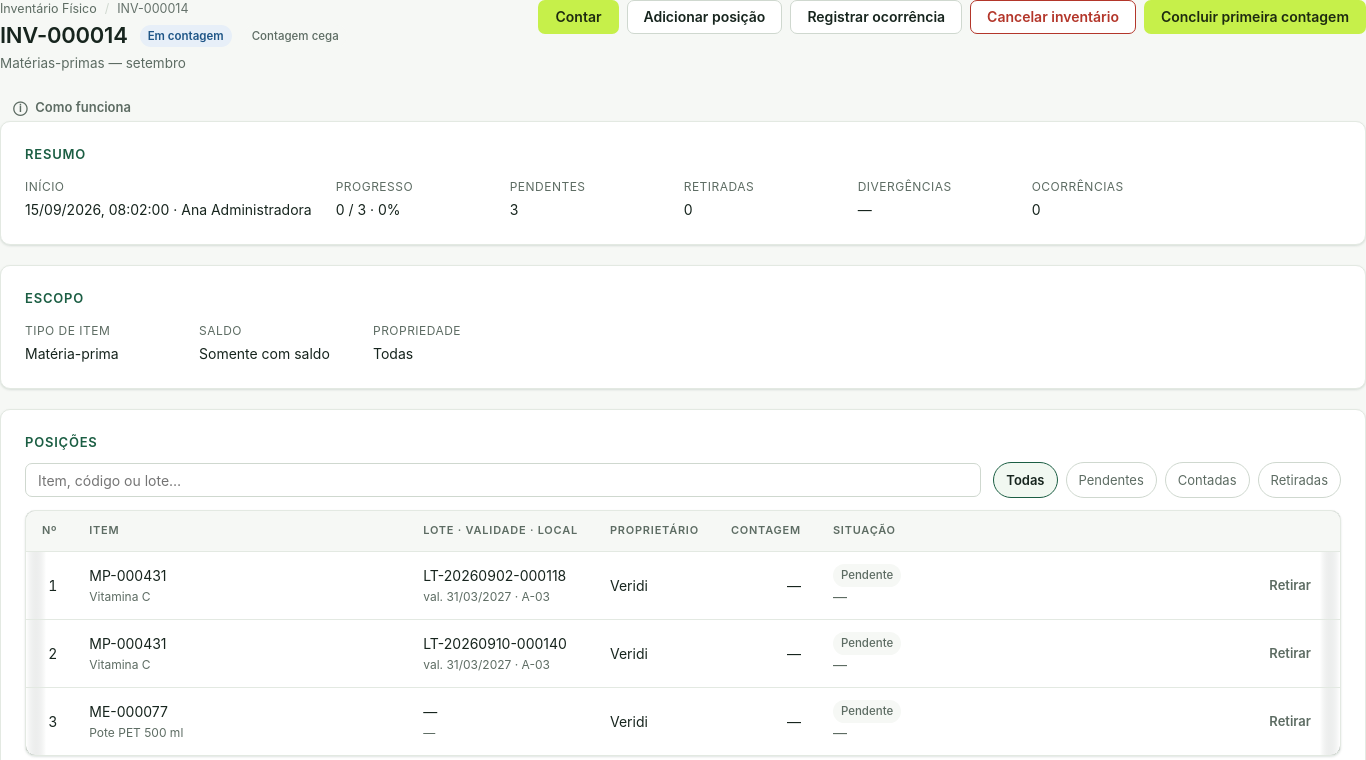
detalhe do inventário — posições › adicionar posição escolhe o lote pela prévia no modo do inventário, sem saldo na cega
The width and height of the screenshot is (1366, 760).
Click the button "Adicionar posição": (704, 17) [626, 0, 782, 34]
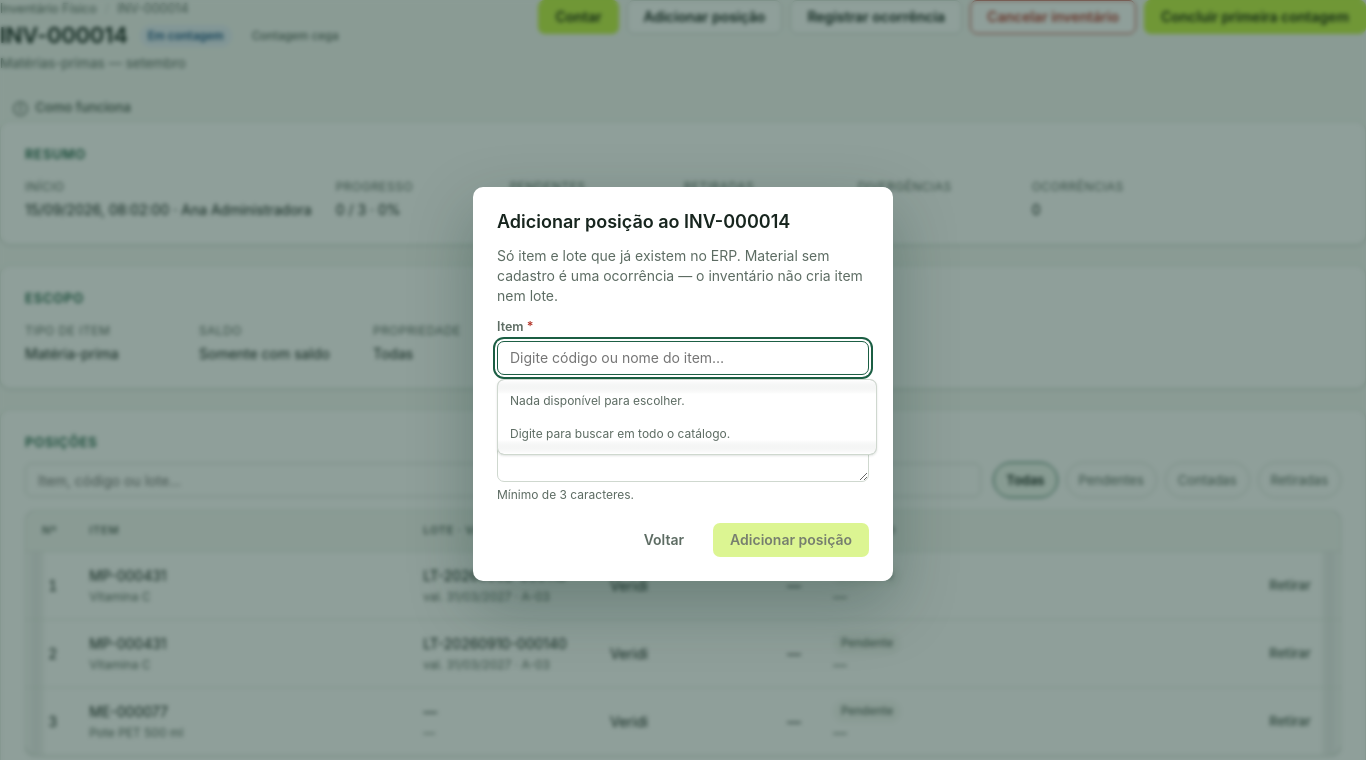
Focus the dropdown with placeholder "Digite código ou nome do item…": (683, 358) [497, 340, 869, 374]
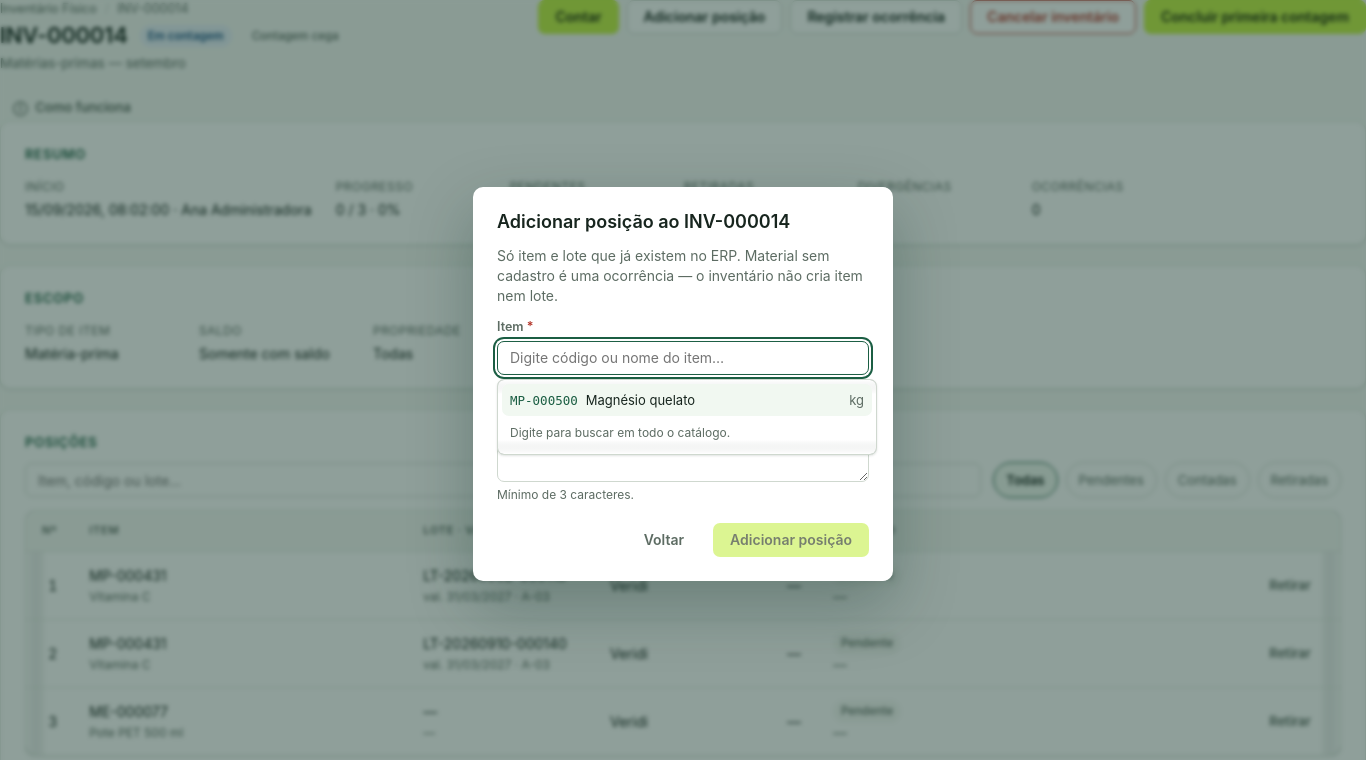
Press the mouse on the option "MP-000500 Magnésio quelato kg": (687, 400) [502, 384, 872, 416]
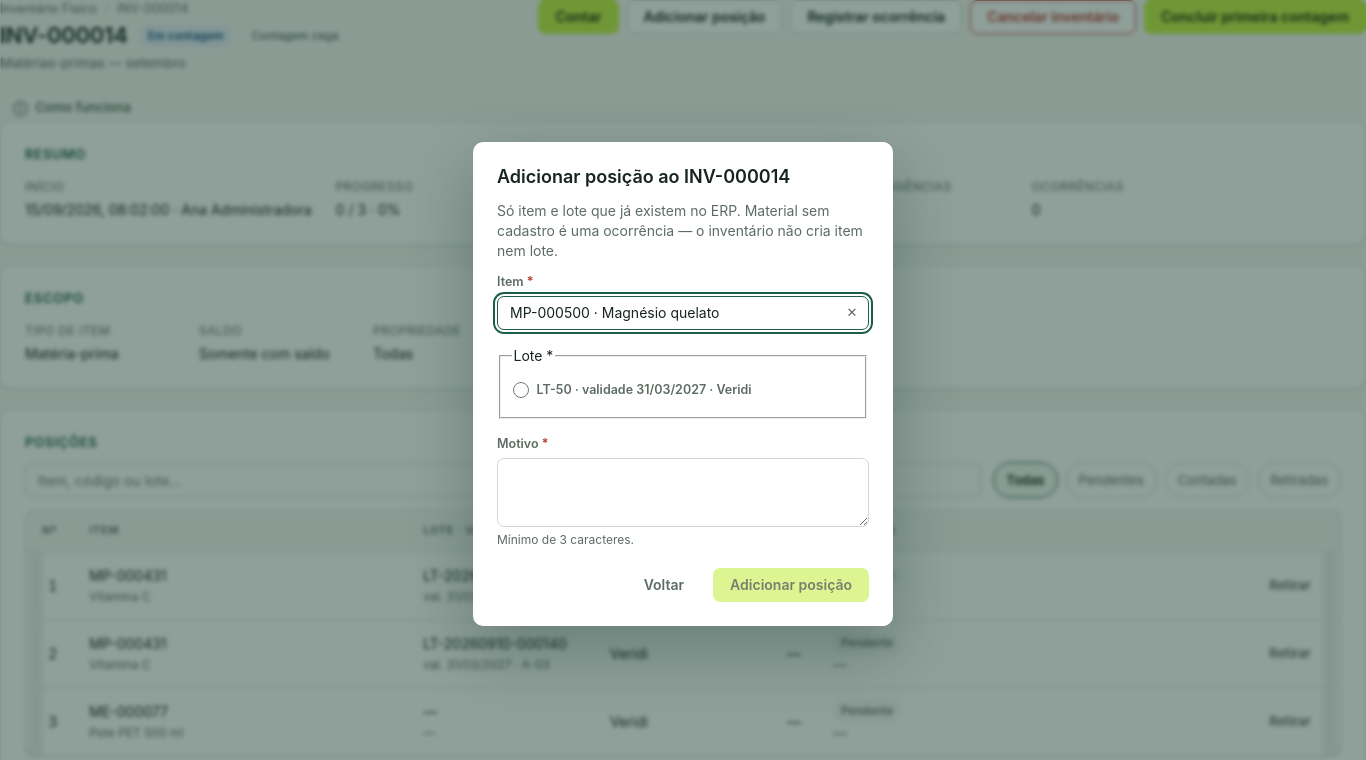
Click the radio button labelled "LT-50 · validade 31/03/2027 · Veridi": (520, 390) [512, 382, 528, 398]
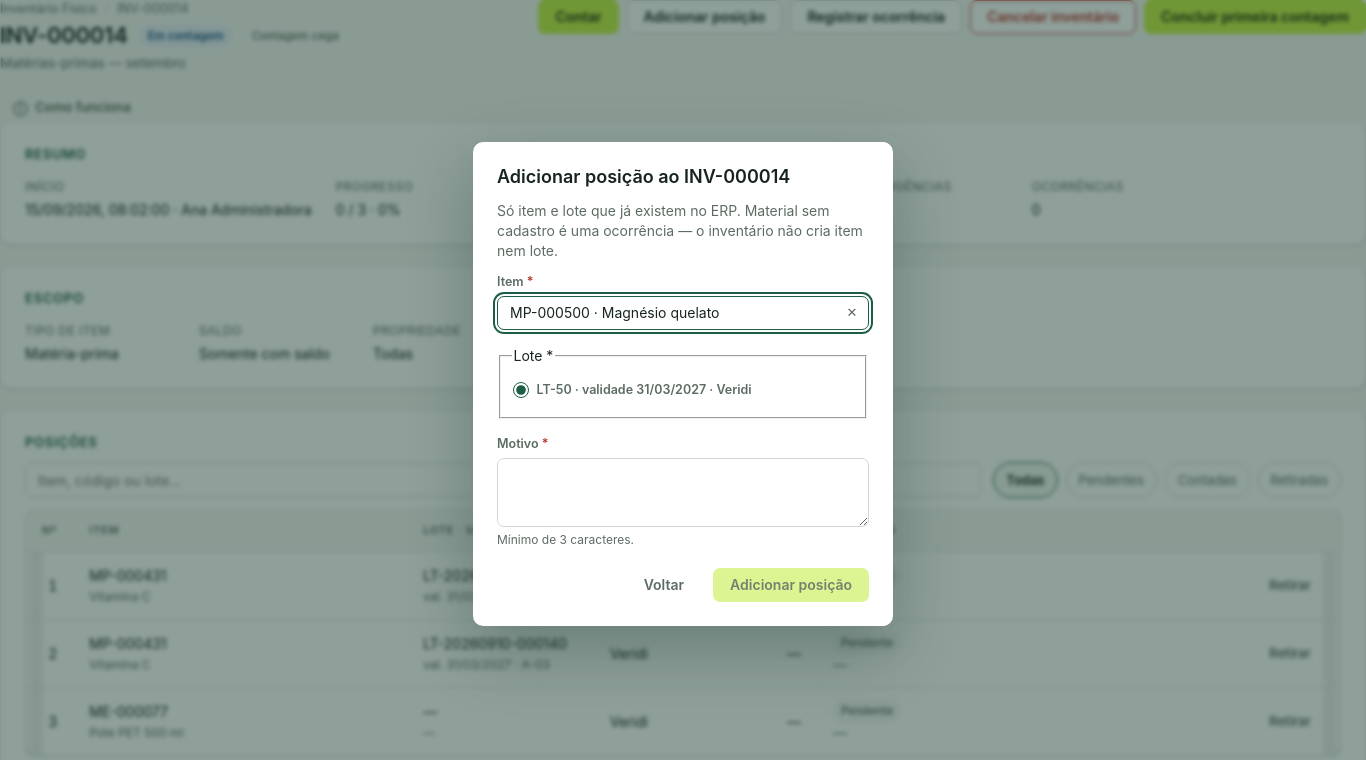
In the text box labelled "Motivo *": (683, 492) [497, 458, 869, 527], type "Achado na doca"
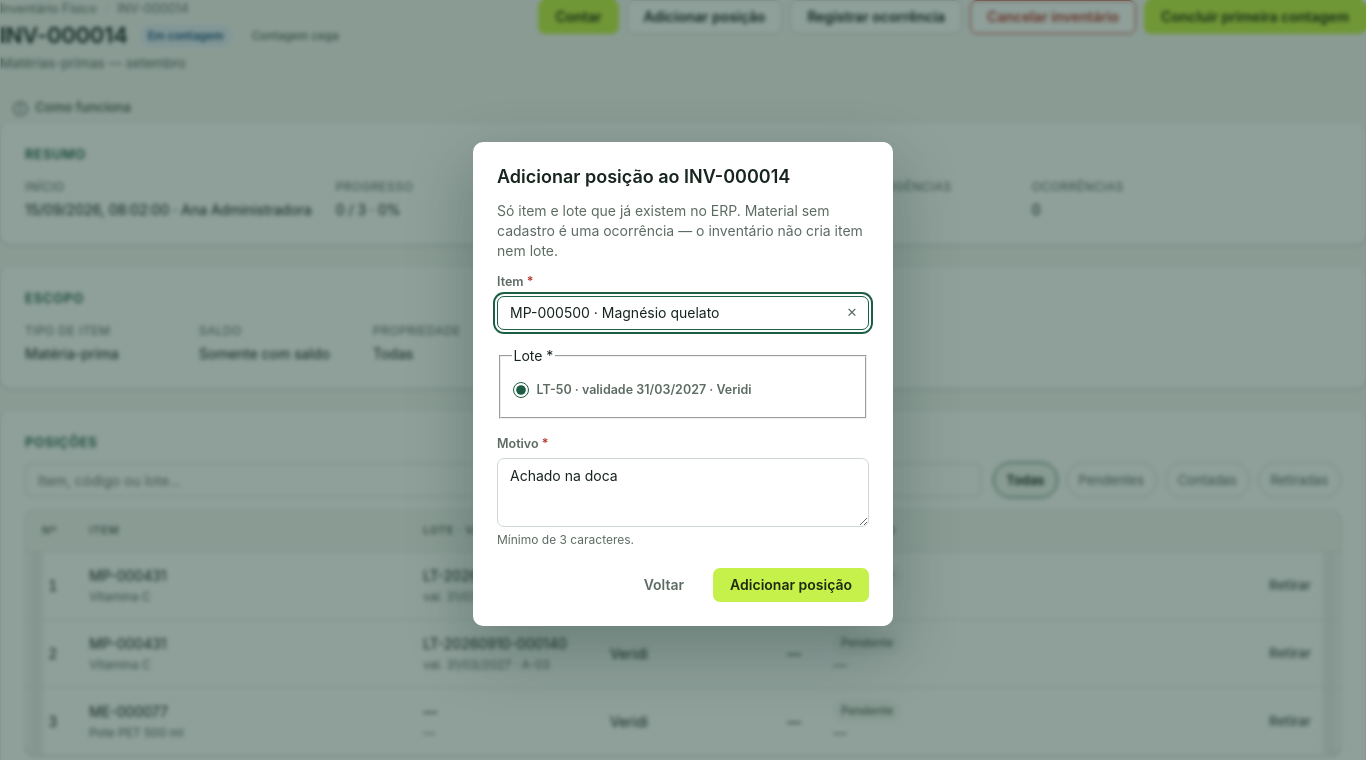
Click the button "Adicionar posição": (791, 585) [713, 568, 869, 602]
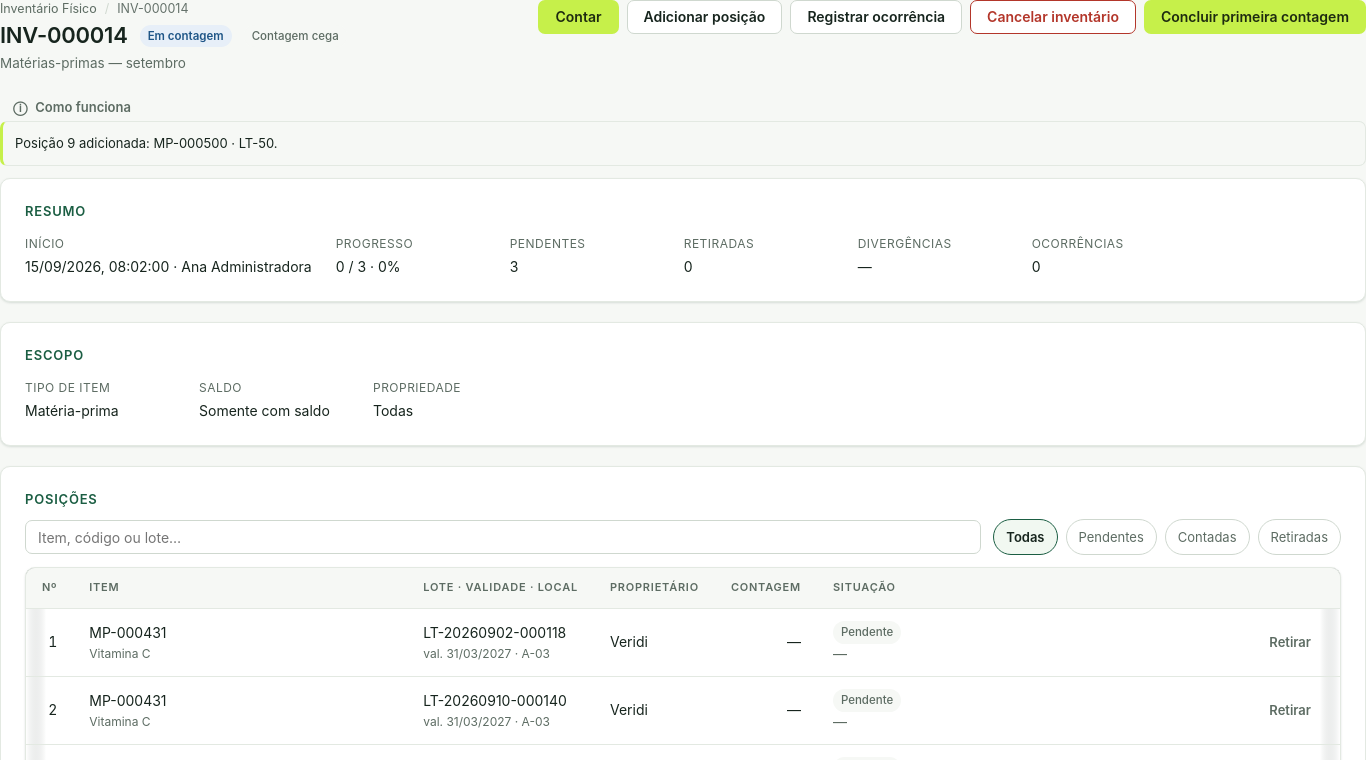
Check: the text "Posição 9 adicionada: MP-000500 · LT-50." is shown, box [0, 121, 1365, 166]
